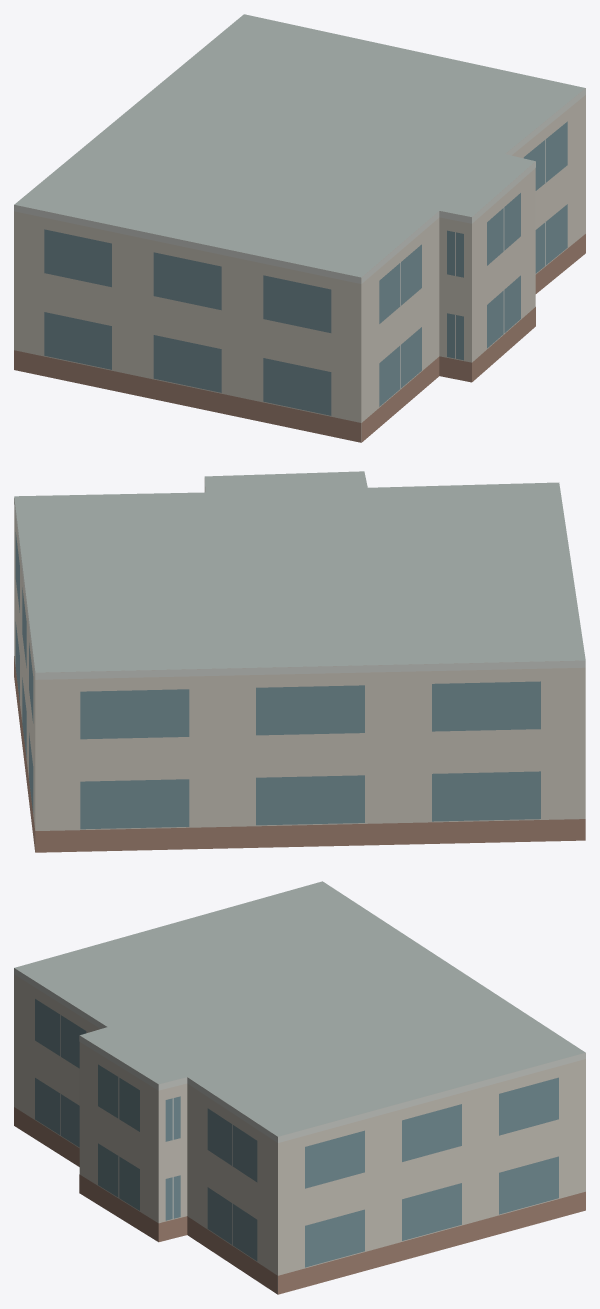
File: survey-upis-32684212.glb
The picture shows the model from 3 angles, top to bottom: view 1: azimuth 30°, elevation 25°; view 2: azimuth 150°, elevation 25°; view 3: azimuth 270°, elevation 25°; orthographic projection. The views are drawn at different scales.
Visible parts, largest first — view 1: survey-upis-32684212.tmp; view 2: survey-upis-32684212.tmp; view 3: survey-upis-32684212.tmp.
Boxes of the visible parts, x1,y1,x2,y2 form: survey-upis-32684212.tmp: (14,14,585,442); survey-upis-32684212.tmp: (14,471,585,852); survey-upis-32684212.tmp: (14,881,585,1294).
Size of the model in its own units: 21.19 by 6.1 by 20.04.
